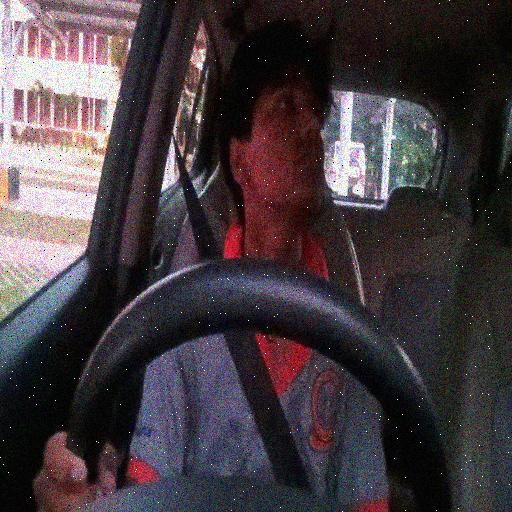Reaching_behind: (132, 24, 385, 450)
